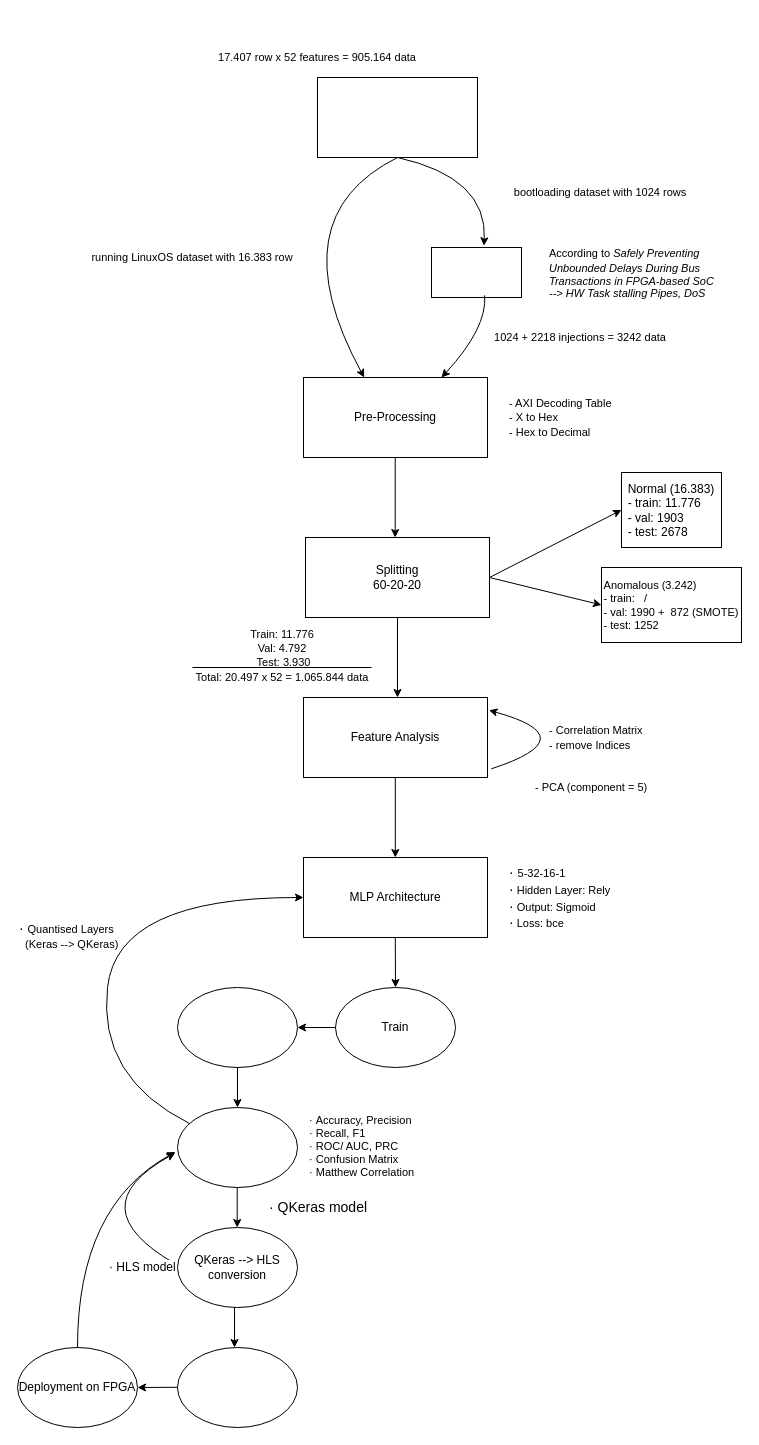
The diagram is 759 pixels wide and 1445 high, and some of its shapes have lost their labels. The shapes that lost their labels are listed below. From the top down, each one's centre as x and y in pixels, then its label:
the point at 397,117: Data Collection (2 Datasets)
the point at 476,272: Anomly Injection
the point at 237,1027: Fine Tune / Validation
the point at 237,1147: Evaluation
the point at 237,1387: Compiling, Building
